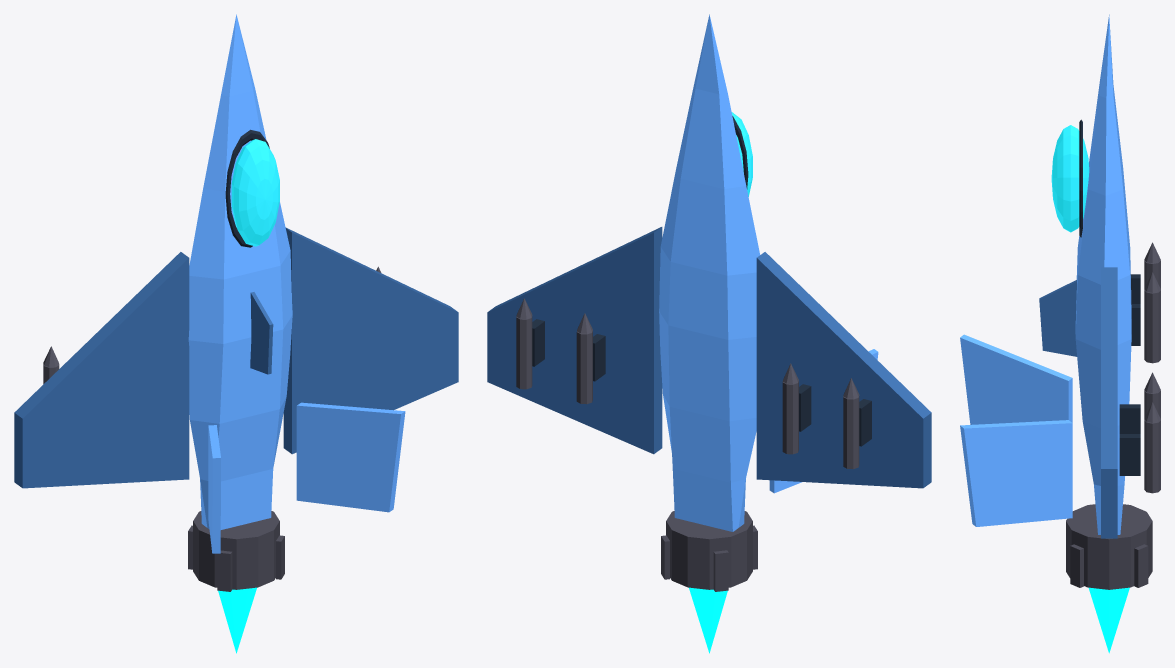
The model's file is player.glb.
3 views of the same model, side by side, from view 1: azimuth 30°, elevation 25°; view 2: azimuth 150°, elevation 25°; view 3: azimuth 270°, elevation 25° (orthographic).
Parts seen in each view (by area): view 1: fuselage, wing_l, wing_r, vtail_r, nozzle_outer, canopy, vtail_l, spine_fin, afterburner, canopy_frame, petal_135; view 2: fuselage, wing_l, wing_r, nozzle_outer, afterburner, missile_r_0, missile_l_1, missile_l_0, missile_r_1, petal_225; view 3: fuselage, vtail_r, vtail_l, nozzle_outer, wing_r, canopy, spine_fin, afterburner, missile_r_1, missile_l_0, pylon_r_1, pylon_r_0 (+6 smaller).
Boxes of the visible parts, bbox=[...] form: fuselage: bbox=[188, 14, 292, 529]; wing_l: bbox=[14, 252, 189, 488]; wing_r: bbox=[283, 227, 458, 454]; vtail_r: bbox=[296, 402, 405, 512]; nozzle_outer: bbox=[193, 511, 279, 589]; canopy: bbox=[231, 139, 279, 246]; vtail_l: bbox=[208, 425, 220, 553]; spine_fin: bbox=[250, 292, 273, 374]; afterburner: bbox=[218, 587, 256, 653]; canopy_frame: bbox=[225, 129, 269, 247]; petal_135: bbox=[217, 550, 232, 591]; fuselage: bbox=[659, 14, 759, 531]; wing_l: bbox=[756, 252, 931, 488]; wing_r: bbox=[487, 227, 662, 454]; nozzle_outer: bbox=[666, 511, 752, 589]; afterburner: bbox=[689, 587, 727, 653]; missile_r_0: bbox=[576, 330, 592, 404]; missile_l_1: bbox=[843, 395, 859, 469]; missile_l_0: bbox=[782, 380, 798, 454]; missile_r_1: bbox=[516, 316, 532, 389]; petal_225: bbox=[713, 550, 728, 591]; fuselage: bbox=[1075, 14, 1131, 534]; vtail_r: bbox=[960, 420, 1072, 526]; vtail_l: bbox=[960, 334, 1072, 424]; nozzle_outer: bbox=[1066, 504, 1152, 589]; wing_r: bbox=[1101, 267, 1117, 538]; canopy: bbox=[1051, 125, 1089, 232]; spine_fin: bbox=[1039, 280, 1076, 356]; afterburner: bbox=[1088, 587, 1129, 653]; missile_r_1: bbox=[1144, 420, 1160, 493]; missile_l_0: bbox=[1144, 290, 1160, 363]; pylon_r_1: bbox=[1119, 434, 1140, 475]; pylon_r_0: bbox=[1119, 404, 1140, 433].
Bounding box in the file's own units: 1.44 × 2.02 × 0.5748.
